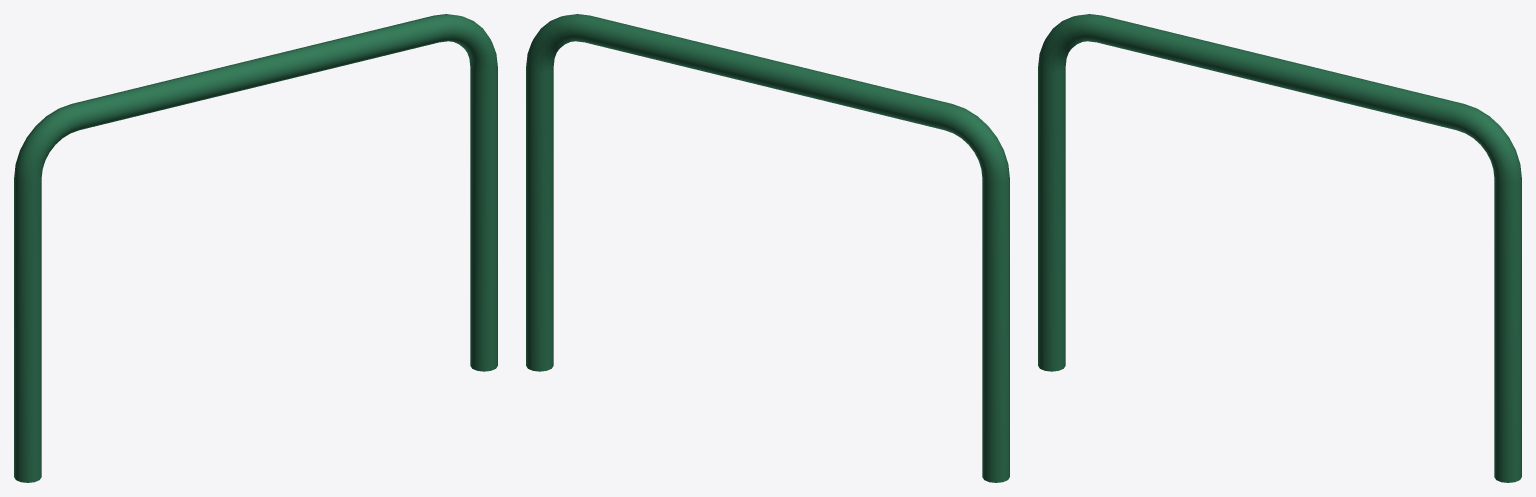
Rendered from Railings_A_Short.FBX.
The picture shows the model from 3 angles, left to right: view 1: azimuth 30°, elevation 25°; view 2: azimuth 150°, elevation 25°; view 3: azimuth 330°, elevation 25°; orthographic projection.
Parts seen in each view (by area): view 1: Railings_A_Short; view 2: Railings_A_Short; view 3: Railings_A_Short.
Part boxes in pixels (x1=…): Railings_A_Short: x1=14, y1=14, x2=497, y2=482; Railings_A_Short: x1=526, y1=14, x2=1009, y2=482; Railings_A_Short: x1=1038, y1=14, x2=1521, y2=482.
Size of the model in its own units: 202 by 145 by 10.
